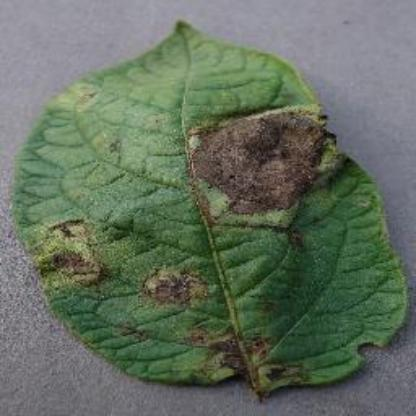Late-Blight: (14, 14, 412, 410)
